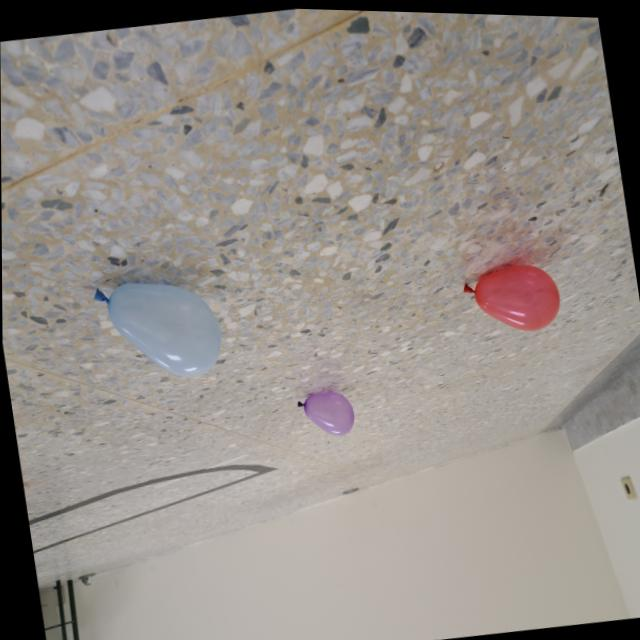other: (88, 267, 228, 390), (293, 385, 357, 441)
red: (460, 254, 563, 337)
